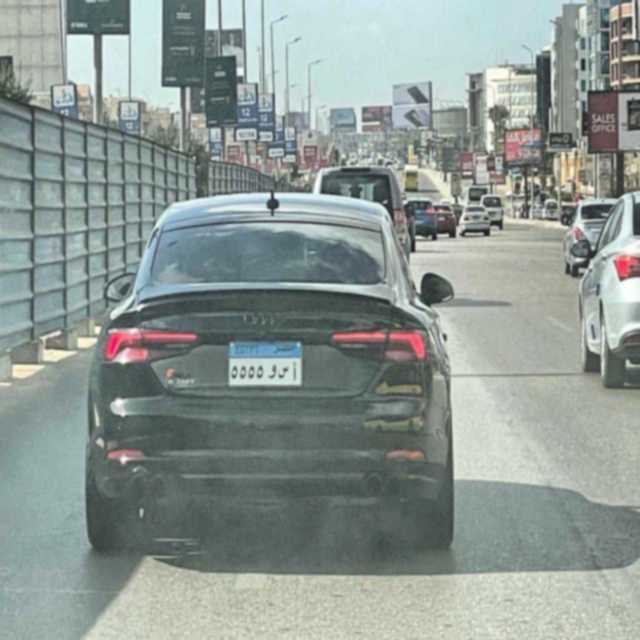License Plate: (225, 340, 304, 388)
